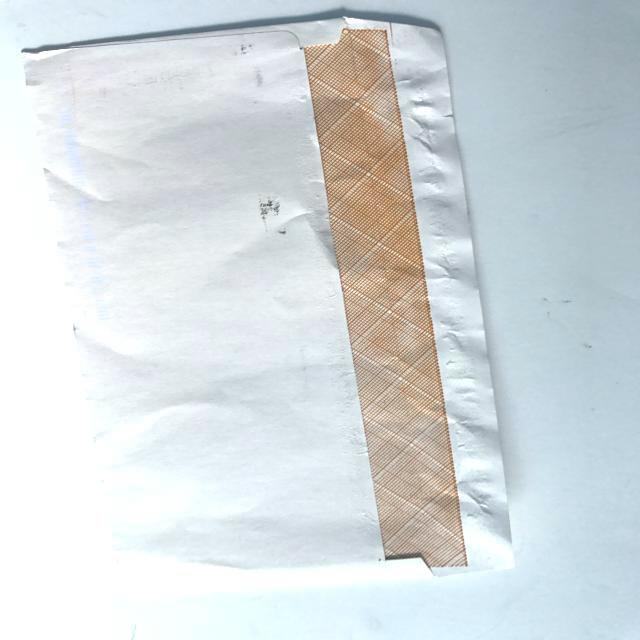paper: (21, 8, 572, 601)
